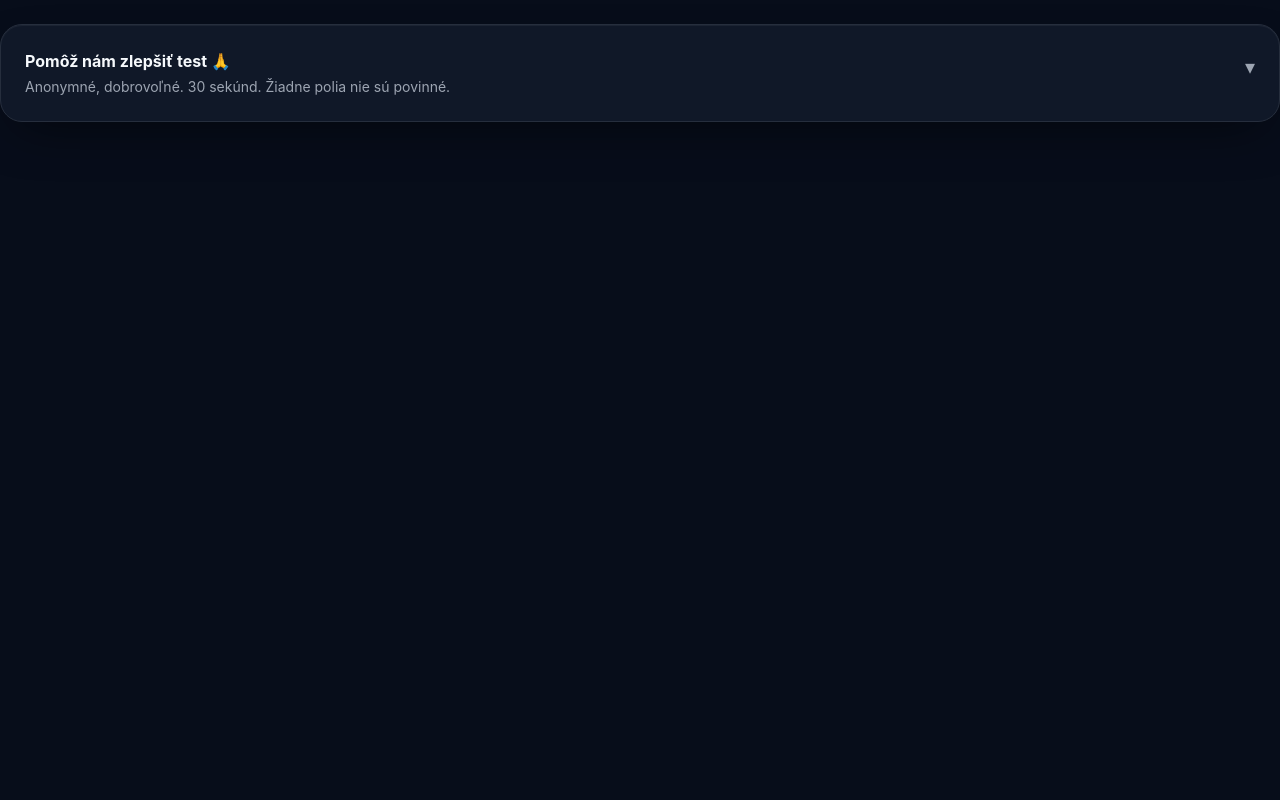
SurveyCard — E2.3 growth questions › hides the interests multi-select until wantsCourses is true
Click the button "Pomôž nám zlepšiť test" at [128, 61], box [17,41,1263,105]
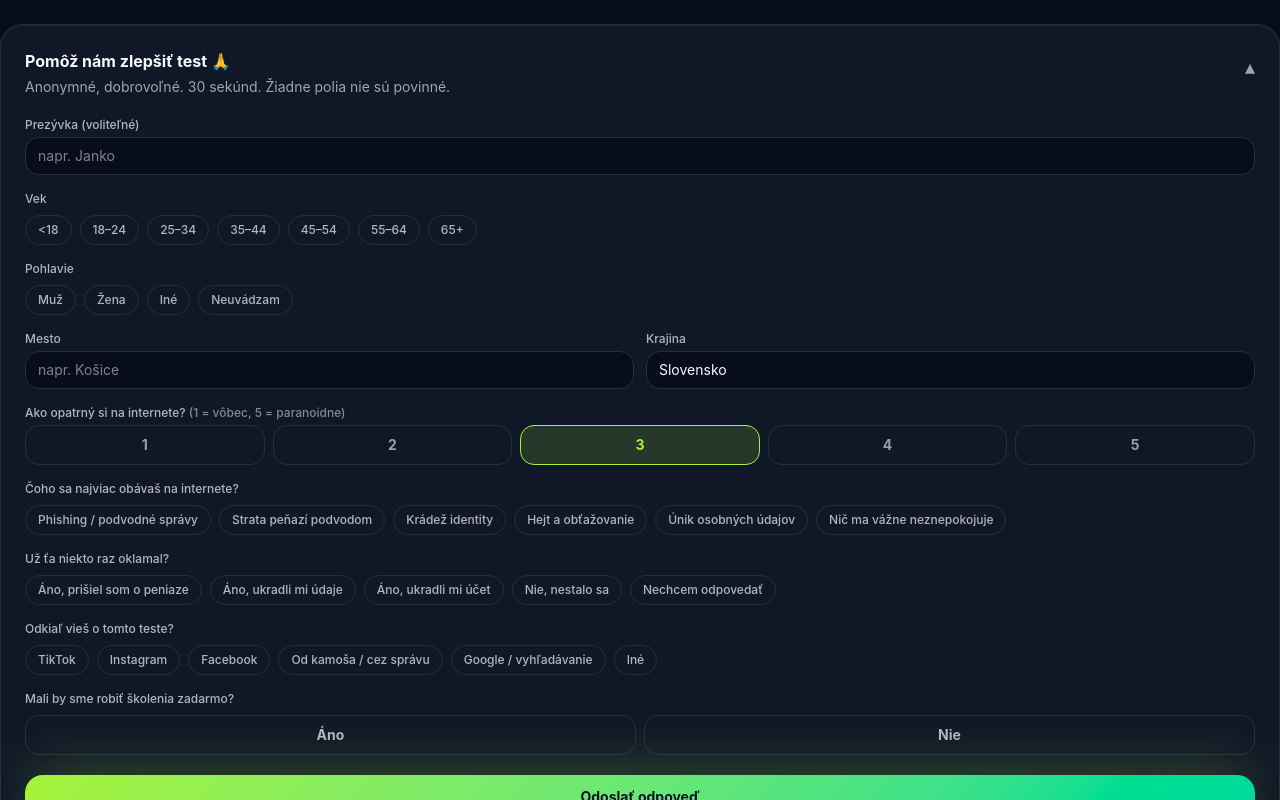
Check: the text "Aké témy by ťa najviac zaujali" is not shown
Click the radio button labelled "Áno" at [330, 735], box [25,715,636,755]
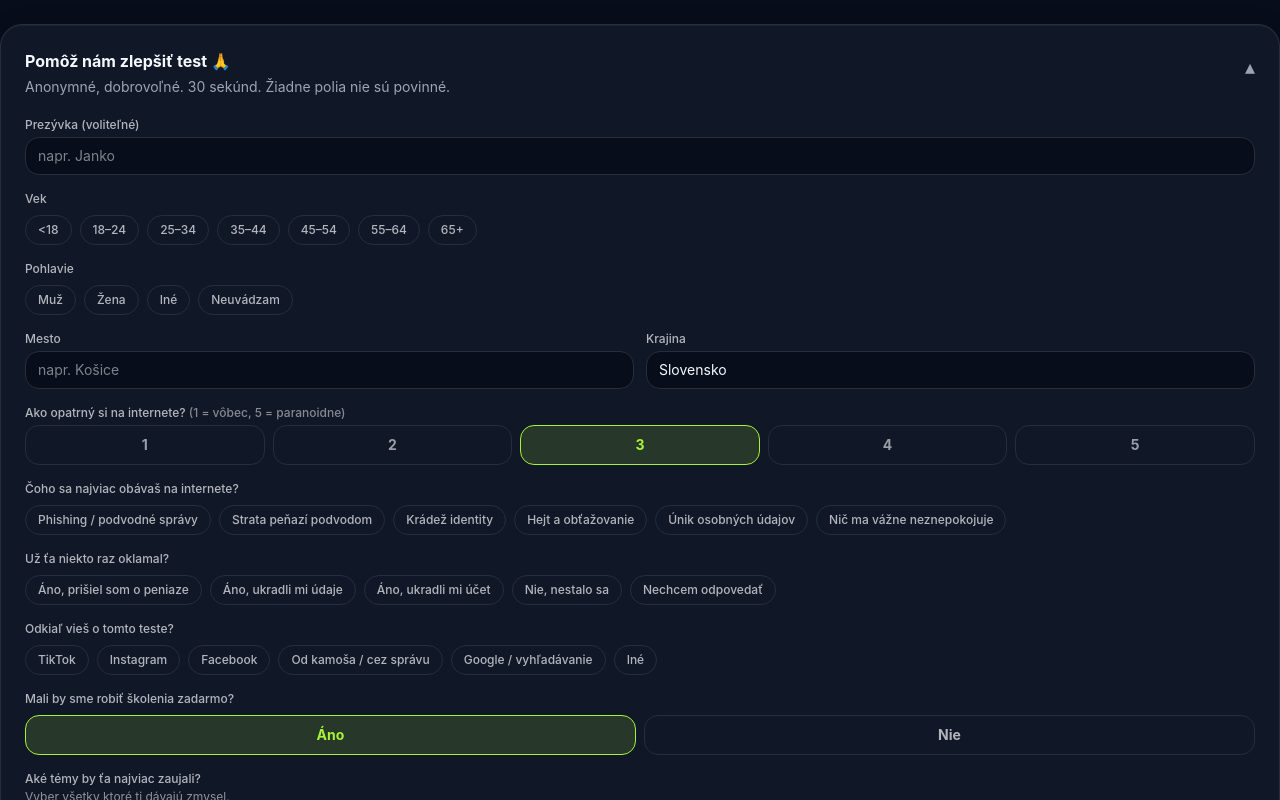
Check: the text "Aké témy by ťa najviac zaujali?" is shown, box [25,771,201,786]
Click the radio button labelled "Nie" at [950, 735], box [644,715,1255,755]
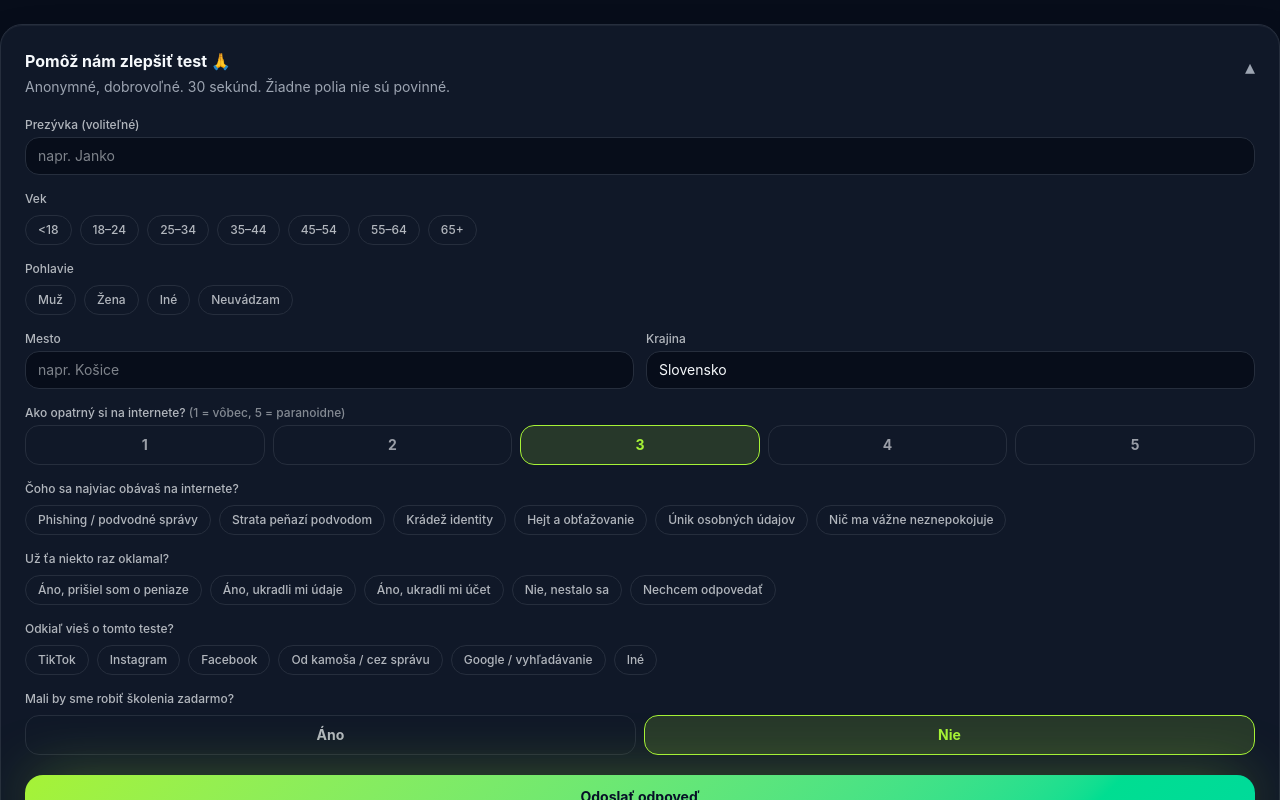
Check: the text "Aké témy by ťa najviac zaujali" is gone
